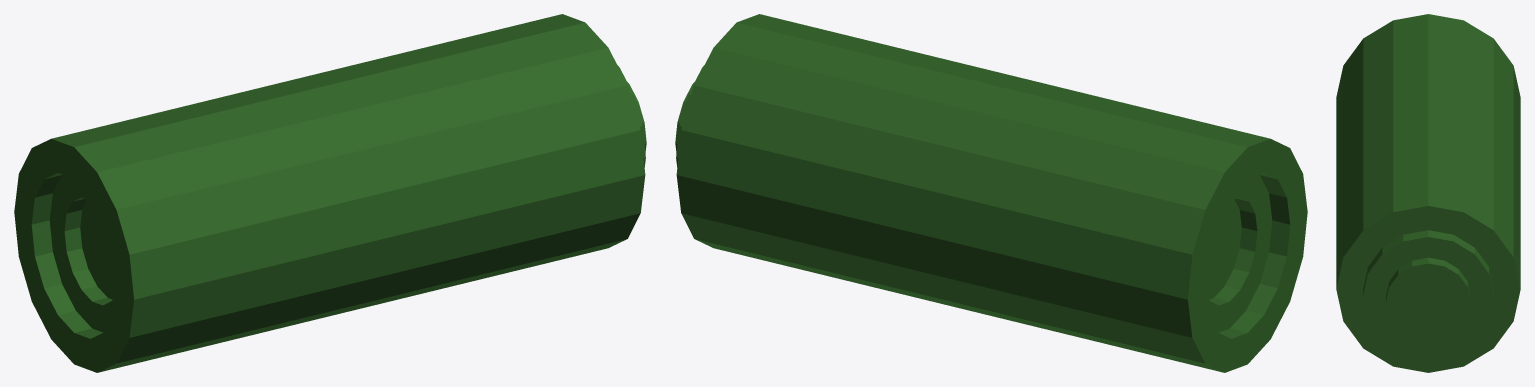
The model's file is sleepingbag.fbx.
3 renders of one model, left to right at view 1: azimuth 30°, elevation 25°; view 2: azimuth 150°, elevation 25°; view 3: azimuth 270°, elevation 25°, orthographic. The views are drawn at different scales.
Visible parts, largest first — view 1: sleepingbag; view 2: sleepingbag; view 3: sleepingbag.
Part boxes in pixels (bbox=[...]): sleepingbag: bbox=[14, 14, 646, 372]; sleepingbag: bbox=[675, 14, 1307, 372]; sleepingbag: bbox=[1336, 14, 1520, 372].
Size of the model in its own units: 0.6953 by 0.2648 by 0.2648.
